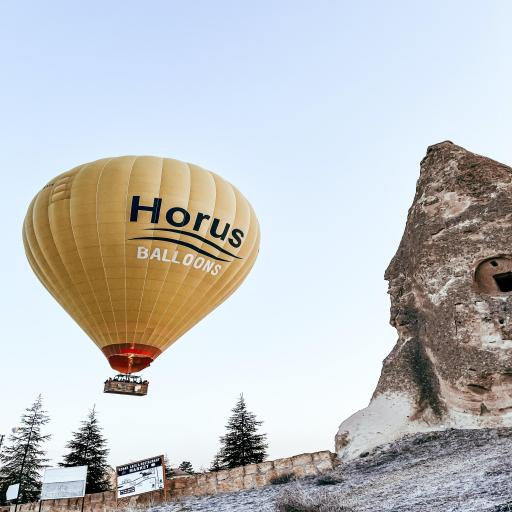hot air ballon: (21, 155, 262, 397)
